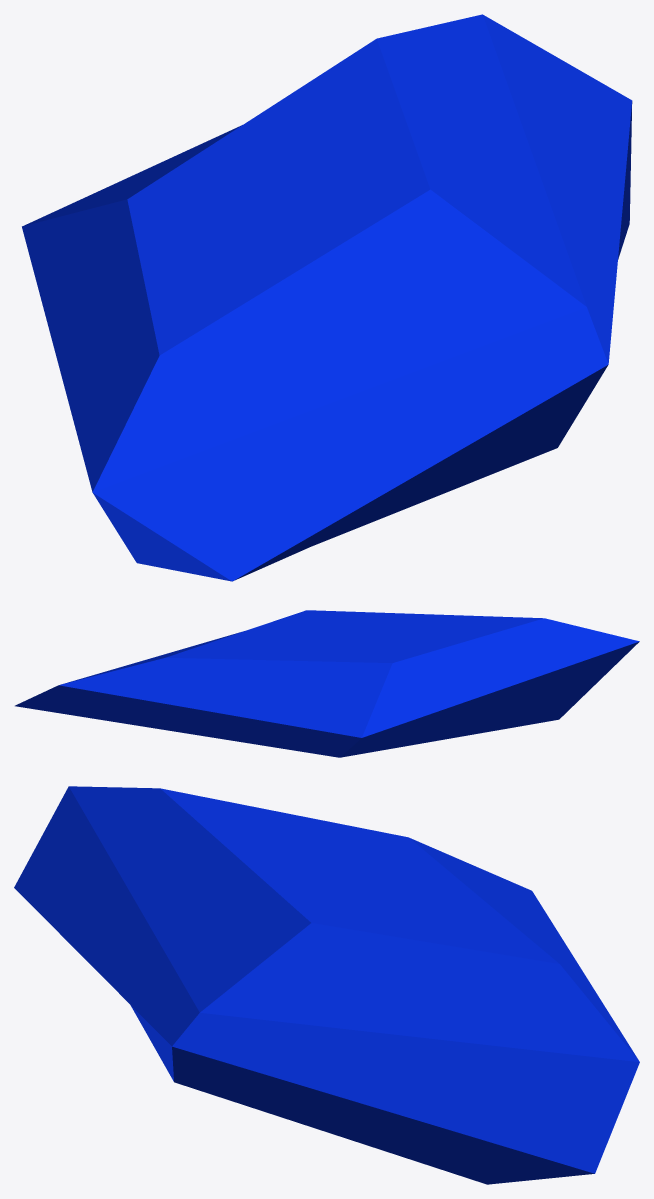
Rendered from lost_chapter_particle.glb.
3 renders of one model, top to bottom at view 1: azimuth 30°, elevation 25°; view 2: azimuth 150°, elevation 25°; view 3: azimuth 270°, elevation 25°, orthographic. The views are drawn at different scales.
Parts seen in each view (by area): view 1: Plane; view 2: Plane; view 3: Plane.
Boxes of the visible parts, x1,y1,x2,y2 form: Plane: (22,14,632,581); Plane: (15,610,639,757); Plane: (14,786,639,1184).
Size of the model in its own units: 2.06 by 0.4373 by 1.69.
